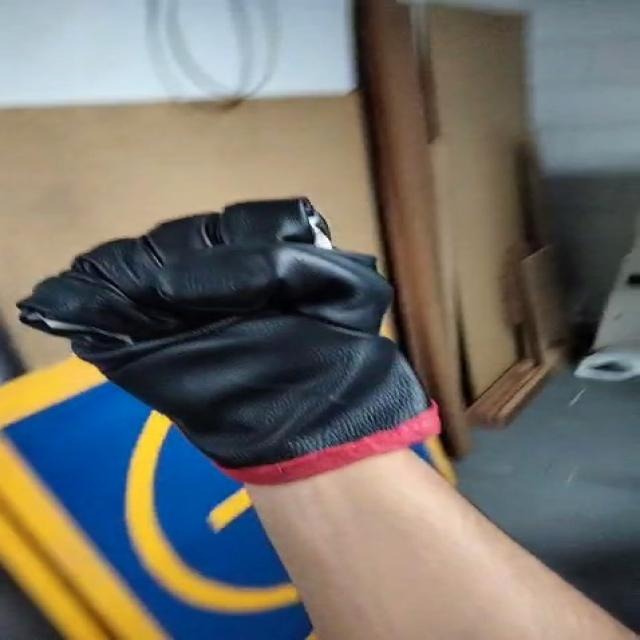Gloves: (25, 195, 447, 486)
